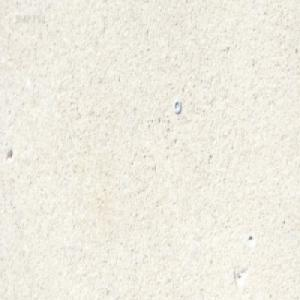Washer: (173, 98, 181, 113)
